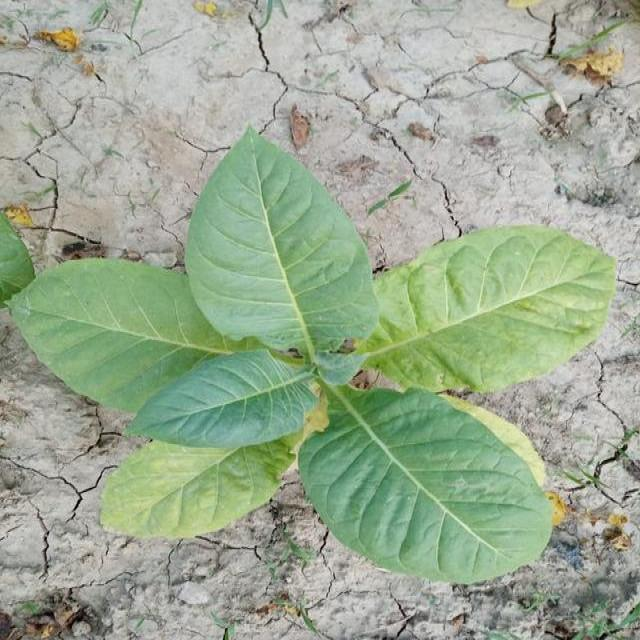crop: (4, 128, 614, 565)
